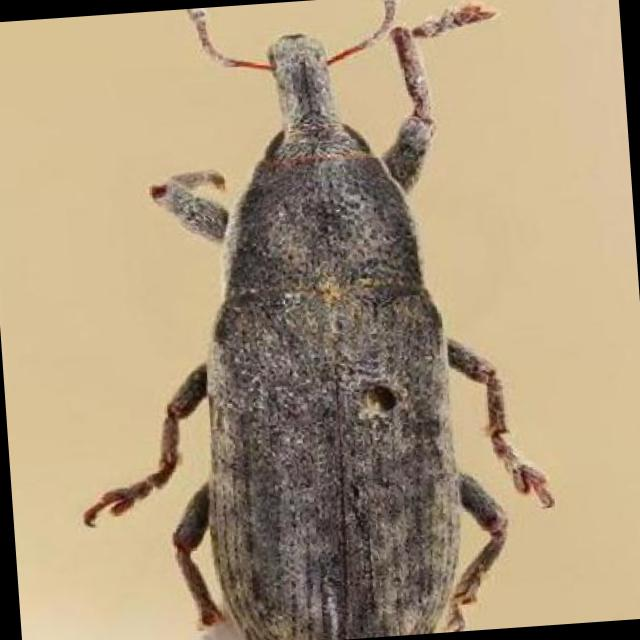rice-bug: (106, 18, 547, 640)
